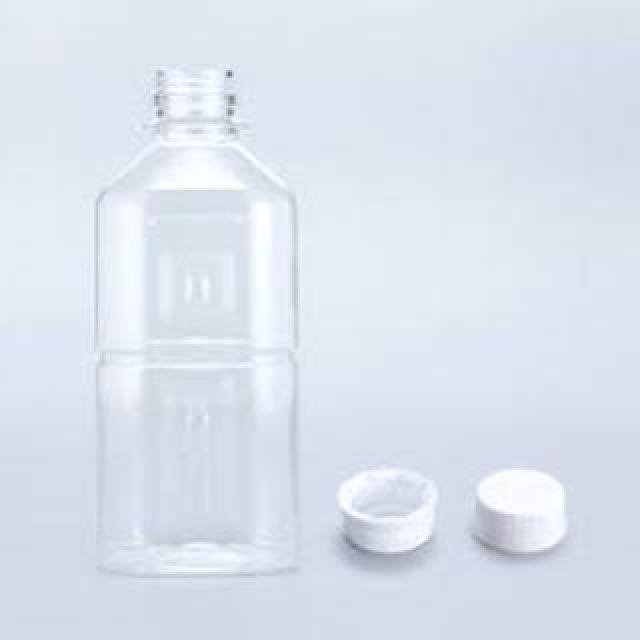Pet_Bottle: (80, 60, 296, 588)
